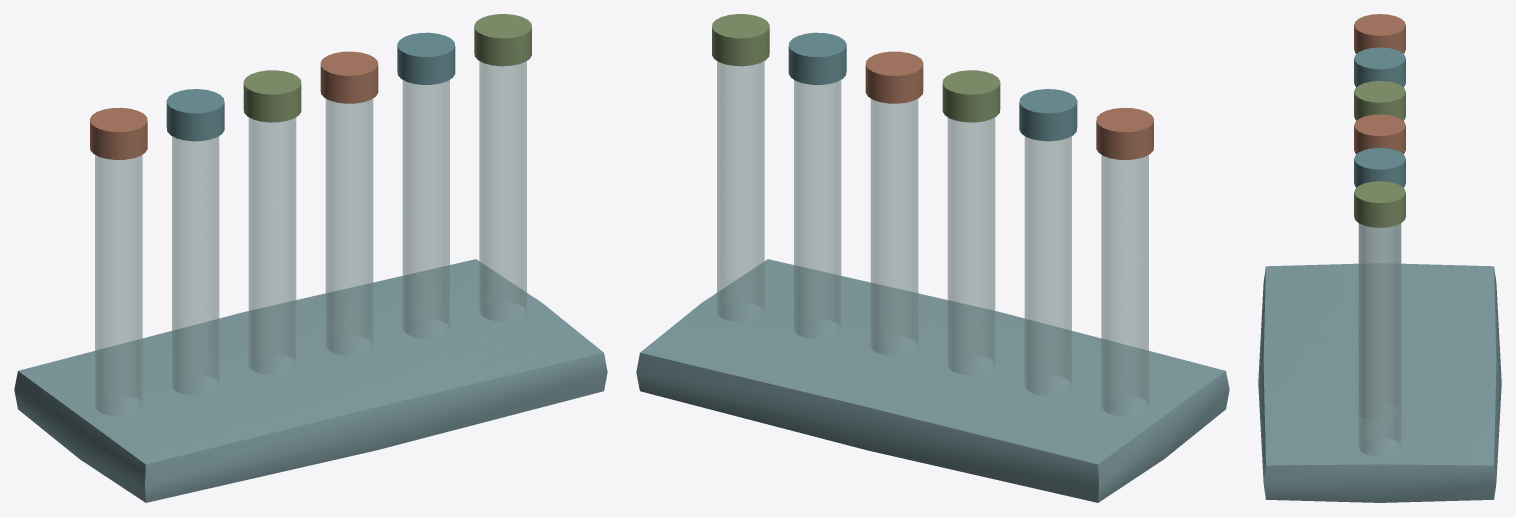
File: test-tube-rack.glb
The picture shows the model from 3 angles, left to right: view 1: azimuth 30°, elevation 25°; view 2: azimuth 150°, elevation 25°; view 3: azimuth 270°, elevation 25°; orthographic projection. The views are drawn at different scales.
Parts seen in each view (by area): view 1: test-tube-rack; view 2: test-tube-rack; view 3: test-tube-rack.
Boxes of the visible parts, x1=… form: test-tube-rack: x1=14, y1=14, x2=607, y2=502; test-tube-rack: x1=636, y1=14, x2=1229, y2=502; test-tube-rack: x1=1258, y1=14, x2=1501, y2=502.
Size of the model in its own units: 0.32 by 0.2165 by 0.16.
13 materials, 13 textured.
